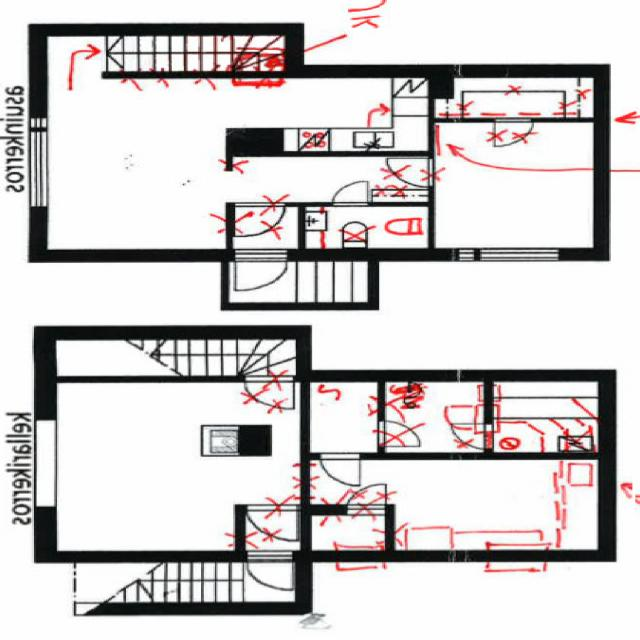door: (235, 248, 287, 296), (249, 550, 293, 592), (254, 466, 311, 496), (450, 406, 492, 428), (333, 180, 368, 206)
